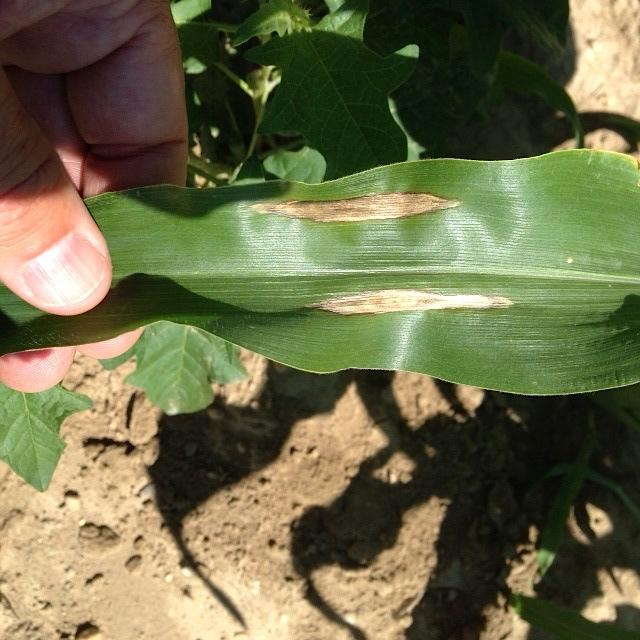Corn leaf blight: (114, 152, 639, 397)
